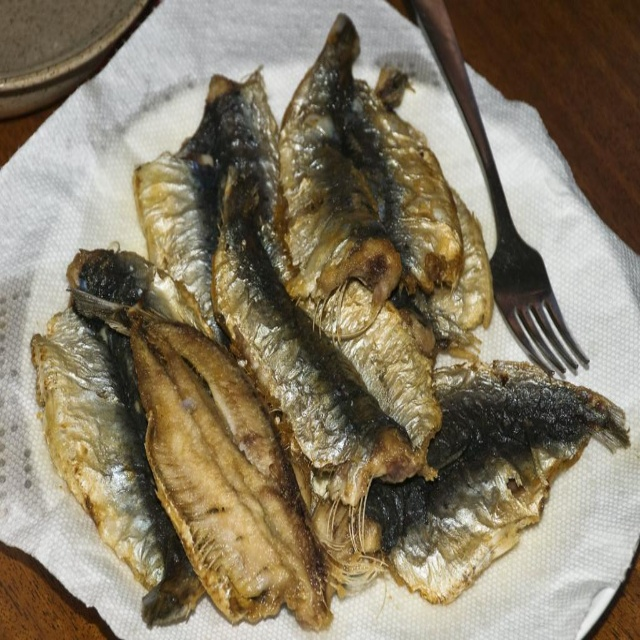Fish: (30, 12, 632, 633)
